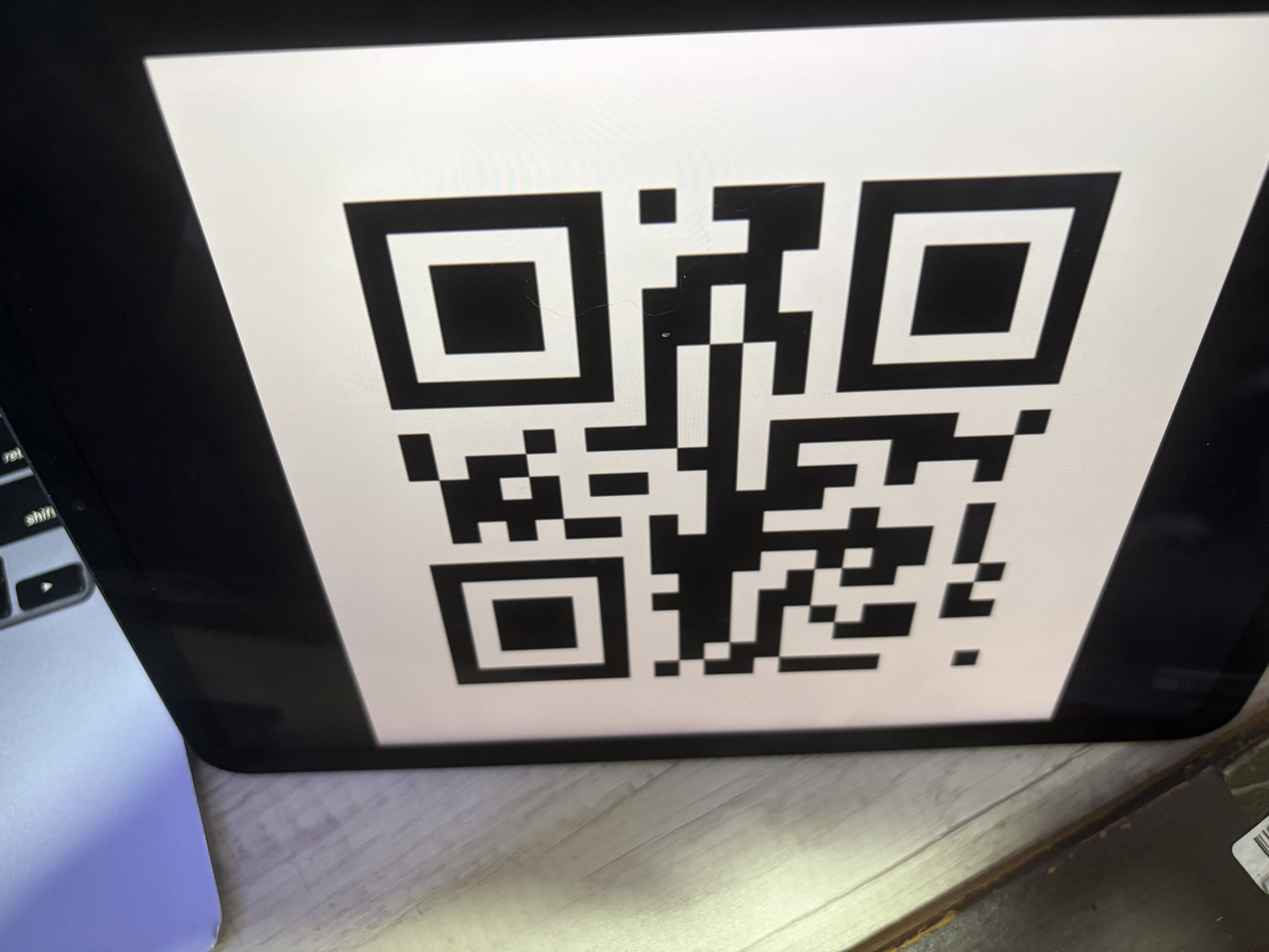QR: (270, 81, 1142, 727)
